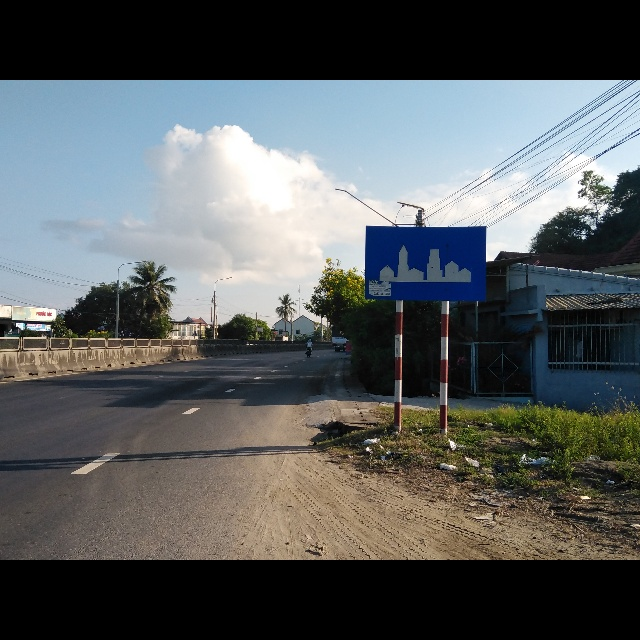Khu đông dân cư: (365, 225, 486, 305)
